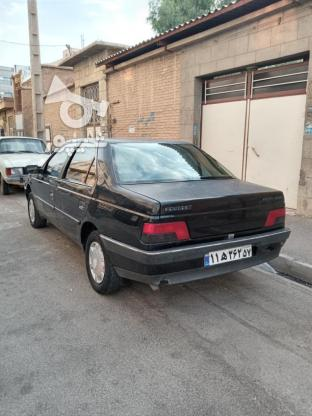car: (204, 244, 253, 268)
